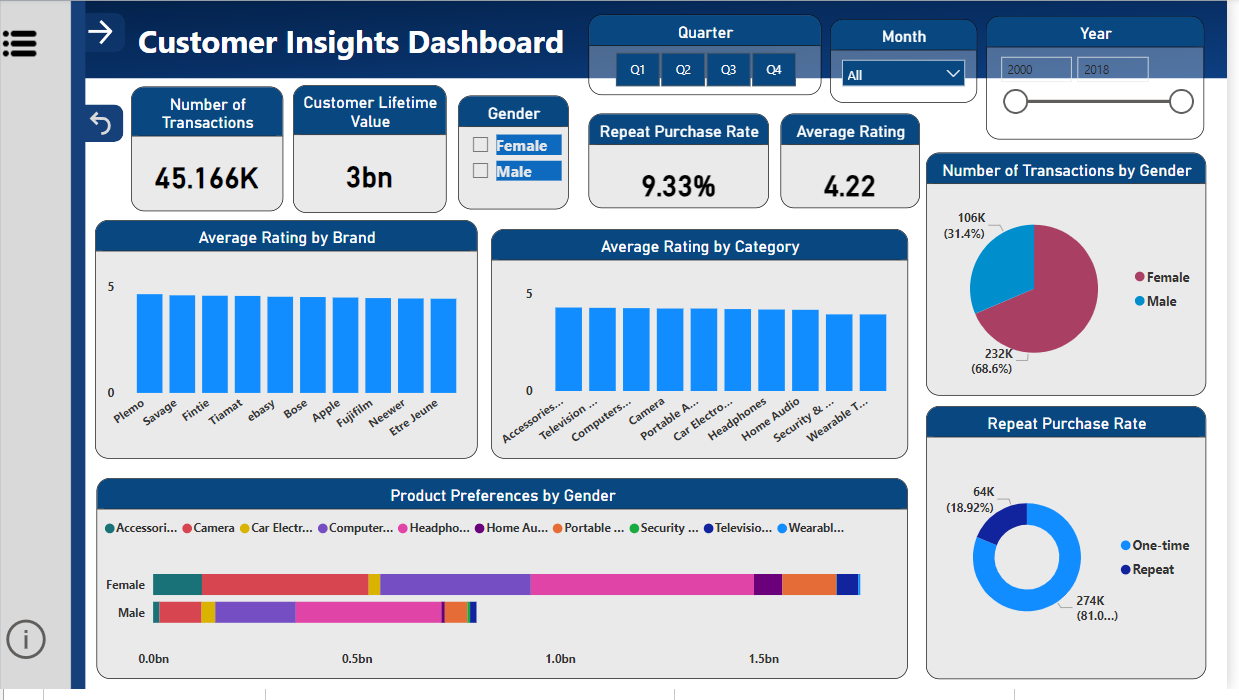

The page's visual inventory and layout, read from the dashboard file:
{"tool":"powerbi","page":{"name":"Customer Insights Dashboard","canvas":[1280,720],"ordinal":5},"visuals":[{"type":"slicer","title":"Year","fields":{"Values":["cleaned.year"]},"box":[1029.6,18.5,227.6,128.7],"z":0,"group":"g1"},{"type":"actionButton","title":"Reset","box":[89.1,111,40.6,39.1],"z":0},{"type":"actionButton","title":"info","box":[1.3,628.3,53.1,79.7],"z":0,"group":"g2"},{"type":"actionButton","title":"Menu","box":[0.4,0,61,95.3],"z":1000,"group":"g2"},{"type":"actionButton","title":"Close Page","box":[87.5,15.6,43.8,40.6],"z":1000},{"type":"slicer","title":"Month","fields":{"Values":["cleaned.Month"]},"box":[866.8,21.5,153.4,87.4],"z":1000,"group":"g1"},{"type":"group","id":"g1","title":"Trend","box":[100.6,16.5,1158.3,693],"z":2000},{"type":"slicer","title":"Quarter","fields":{"Values":["cleaned.Quarter"]},"box":[615.5,16.5,242.5,84.1],"z":2000,"group":"g1"},{"type":"cardVisual","title":"Number of Transactions","fields":{"Data":["CountNonNull(cleaned.item_id)"]},"box":[138.1,91,158.4,130.3],"z":3000,"group":"g1"},{"type":"group","id":"g2","title":"Menu bar","box":[0.4,0,61,708],"z":4000},{"type":"cardVisual","title":"Repeat Purchase Rate","fields":{"Data":["cleaned.Repeat Purchase Rate (%)"]},"box":[614.2,119.6,188,99],"z":4000,"group":"g1"},{"type":"cardVisual","title":"Average Rating","fields":{"Data":["Avg(cleaned.rating)"]},"box":[815.5,119.6,145.2,99],"z":5000,"group":"g1"},{"type":"cardVisual","title":"Customer Lifetime Value","fields":{"Data":["Sum(cleaned.CLV per User)"]},"box":[307.4,89.9,160,133.6],"z":6000,"group":"g1"},{"type":"pieChart","title":"Number of Transactions by Gender","fields":{"Category":["cleaned.gender"],"Y":["Sum(cleaned.quantity)"]},"box":[966.6,160.4,292.3,253.2],"z":7000,"group":"g1"},{"type":"donutChart","title":"Repeat Purchase Rate","fields":{"Y":["Sum(cleaned.quantity)"],"Category":["cleaned.Repeat Customer Flag"]},"box":[966.6,424.6,292.3,284.5],"z":8000,"group":"g1"},{"type":"columnChart","title":"Average Rating by Category","fields":{"Category":["cleaned.category"],"Y":["Avg(cleaned.rating)"]},"box":[513.4,240.1,434.5,239.1],"z":9000,"group":"g1"},{"type":"barChart","title":"Product Preferences by Gender","fields":{"Category":["cleaned.gender"],"Series":["cleaned.category"],"Y":["Sum(cleaned.amount)"]},"box":[102.2,500,845.6,209.4],"z":10000,"group":"g1"},{"type":"slicer","title":"Gender","fields":{"Values":["cleaned.gender"]},"box":[478.3,100.6,115.5,118.8],"z":10500,"group":"g1"},{"type":"columnChart","title":"Average Rating by Brand","fields":{"Category":["cleaned.brand"],"Y":["Avg(cleaned.rating)"]},"box":[100.6,231.2,398.6,248.5],"z":11000,"group":"g1"},{"type":"textbox","box":[127.2,16.5,466.8,77.5],"z":12000,"group":"g1"}]}

Visuals, with their boxes on the page's 1280x720 design canvas (x1, y1, x2, y2). These are canvas units, not pixel positions in the 1239x700 screenshot, which may show the page scaled, cropped or inside an application window:
"Year" slicer: box=[1030, 18, 1257, 147]
"Reset" actionButton: box=[89, 111, 130, 150]
"info" actionButton: box=[1, 628, 54, 708]
"Menu" actionButton: box=[0, 0, 61, 95]
"Close Page" actionButton: box=[88, 16, 131, 56]
"Month" slicer: box=[867, 22, 1020, 109]
"Trend" group: box=[101, 16, 1259, 710]
"Quarter" slicer: box=[616, 16, 858, 101]
"Number of Transactions" cardVisual: box=[138, 91, 296, 221]
"Menu bar" group: box=[0, 0, 61, 708]
"Repeat Purchase Rate" cardVisual: box=[614, 120, 802, 219]
"Average Rating" cardVisual: box=[816, 120, 961, 219]
"Customer Lifetime Value" cardVisual: box=[307, 90, 467, 224]
"Number of Transactions by Gender" pieChart: box=[967, 160, 1259, 414]
"Repeat Purchase Rate" donutChart: box=[967, 425, 1259, 709]
"Average Rating by Category" columnChart: box=[513, 240, 948, 479]
"Product Preferences by Gender" barChart: box=[102, 500, 948, 709]
"Gender" slicer: box=[478, 101, 594, 219]
"Average Rating by Brand" columnChart: box=[101, 231, 499, 480]
textbox: box=[127, 16, 594, 94]
